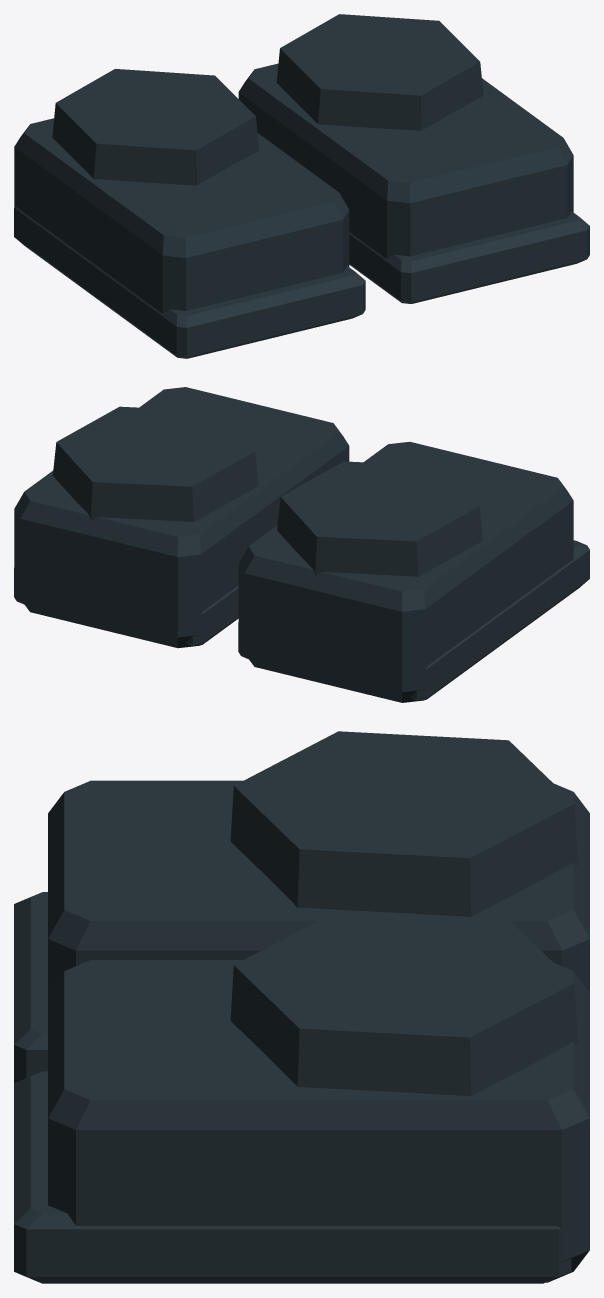
Rendered from SM_NPC_FOOTWEAR_000_AnkleBoots.glb.
The picture shows the model from 3 angles, top to bottom: view 1: azimuth 30°, elevation 25°; view 2: azimuth 150°, elevation 25°; view 3: azimuth 270°, elevation 25°; orthographic projection. The views are drawn at different scales.
Parts seen in each view (by area): view 1: SM_NPC_FOOTWEAR_000_AnkleBoots; view 2: SM_NPC_FOOTWEAR_000_AnkleBoots; view 3: SM_NPC_FOOTWEAR_000_AnkleBoots.
Part boxes in pixels (box(x1,y1,x2,y2)): SM_NPC_FOOTWEAR_000_AnkleBoots: box(14, 14, 589, 358); SM_NPC_FOOTWEAR_000_AnkleBoots: box(14, 387, 589, 702); SM_NPC_FOOTWEAR_000_AnkleBoots: box(14, 731, 589, 1283).
Bounding box in the file's own units: 0.505 × 0.17 × 0.372.
